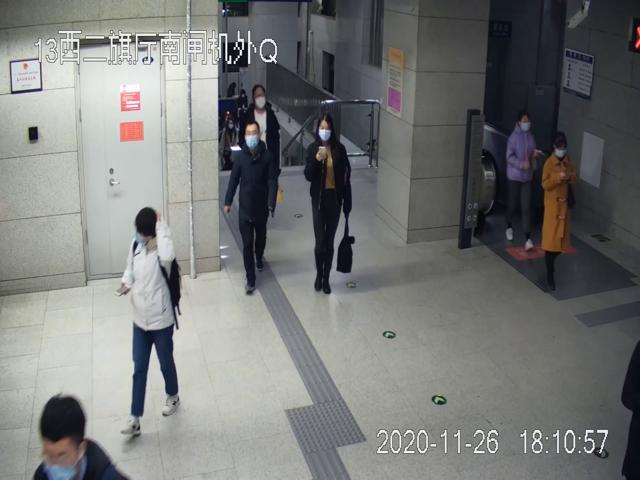person: (114, 208, 181, 435), (223, 119, 278, 296), (304, 113, 354, 294), (542, 127, 578, 292), (505, 108, 540, 255), (238, 84, 283, 180)
